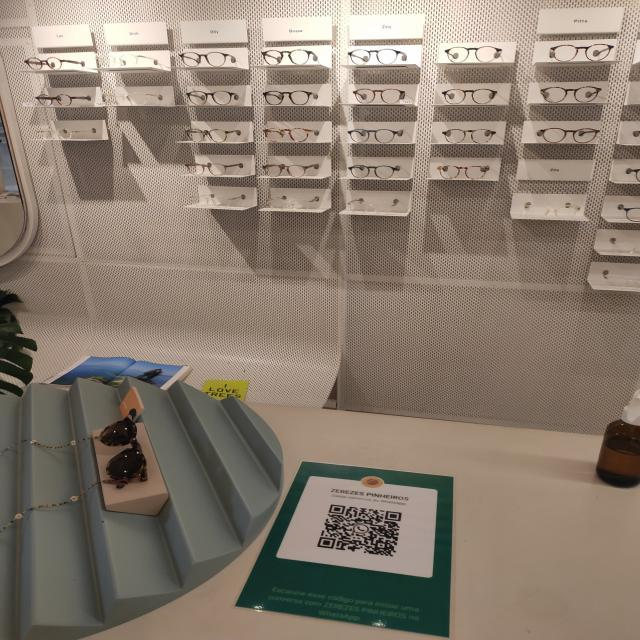qrcode: (318, 505, 403, 558)
